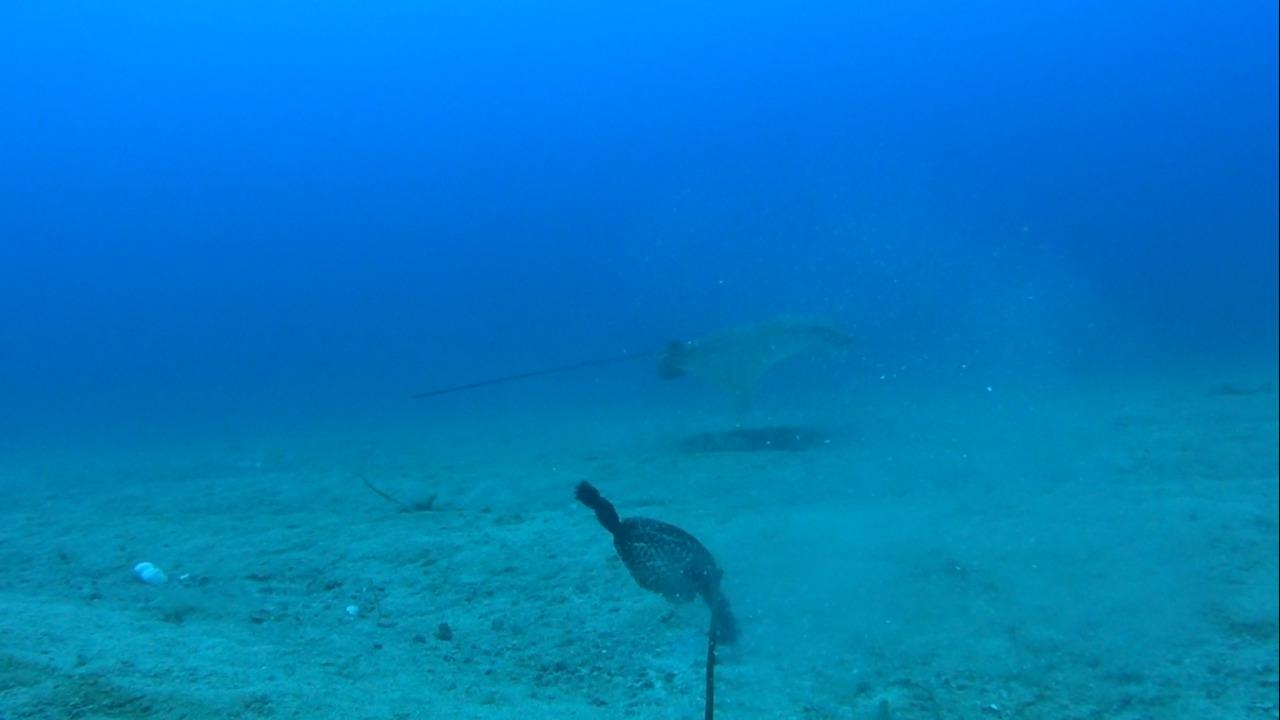myliobatis: (403, 306, 867, 426)
